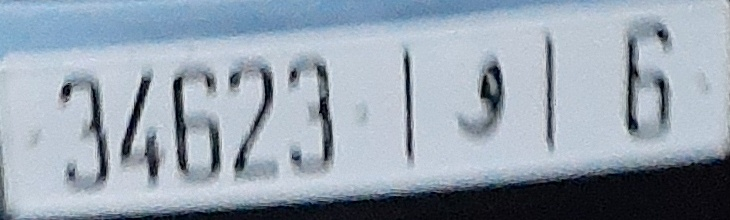2: (226, 58, 281, 184)
3: (52, 72, 109, 197), (282, 53, 337, 180)
4: (118, 67, 169, 193)
6: (620, 15, 674, 142), (170, 61, 223, 187)
waw: (451, 54, 516, 144)
